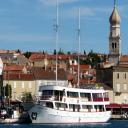cruises: (16, 79, 113, 127)
